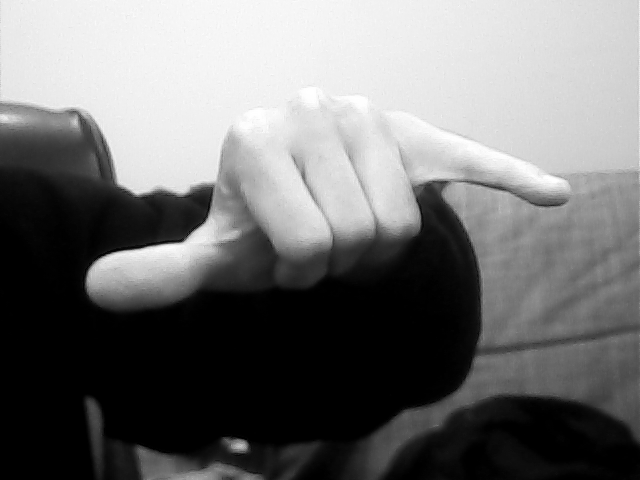aloha: (84, 82, 574, 319)
